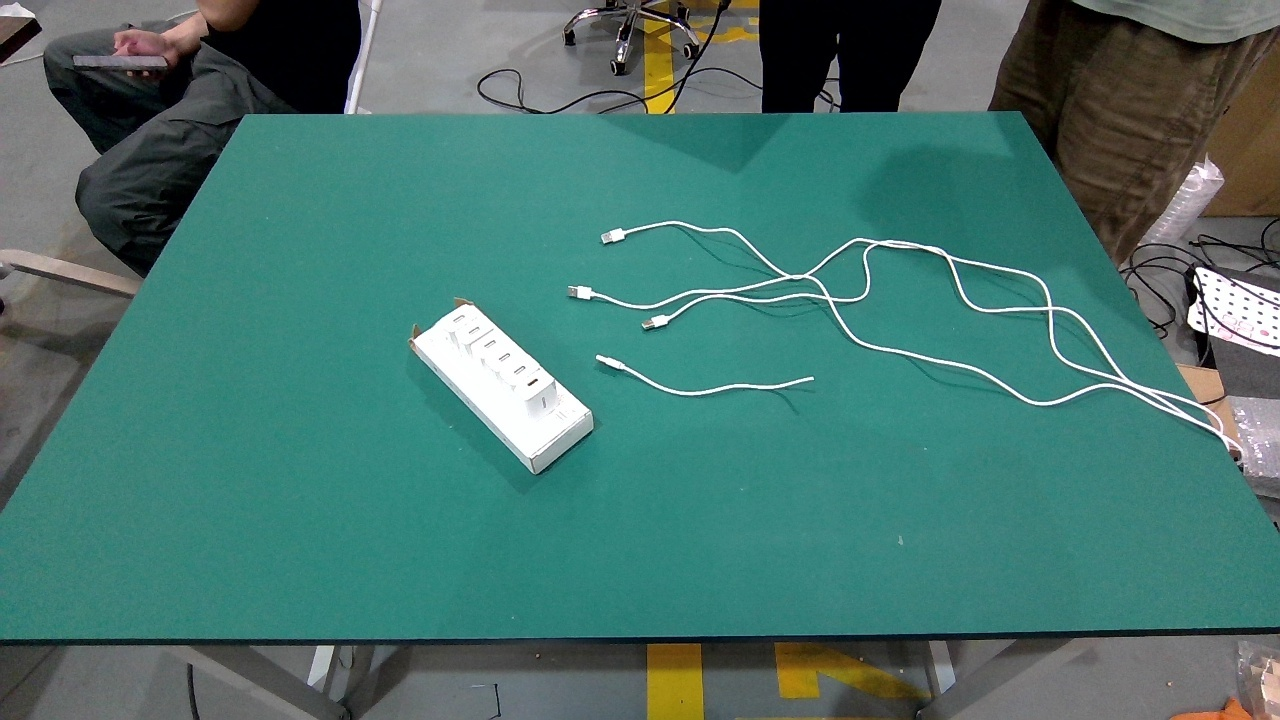usb_a_plug: (640, 309, 679, 333), (594, 352, 631, 374), (600, 224, 635, 247), (567, 284, 601, 302)
